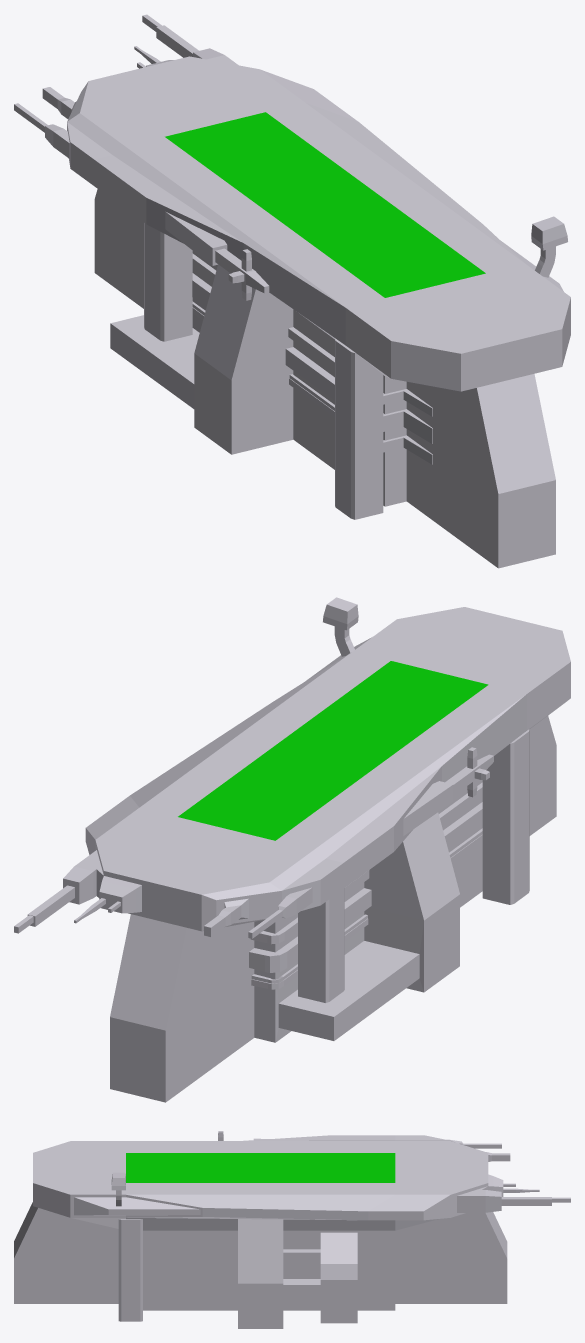
File: Build-up Block.fbx
The picture shows the model from 3 angles, top to bottom: view 1: azimuth 30°, elevation 25°; view 2: azimuth 150°, elevation 25°; view 3: azimuth 270°, elevation 25°; orthographic projection. The views are drawn at different scales.
Visible parts, largest first — view 1: Build-up Block; view 2: Build-up Block; view 3: Build-up Block.
Part boxes in pixels (bbox=[...]): Build-up Block: bbox=[14, 14, 570, 568]; Build-up Block: bbox=[14, 597, 570, 1102]; Build-up Block: bbox=[14, 1131, 570, 1328].
Bounding box in the file's own units: 2.32 × 2.22 × 7.35.
